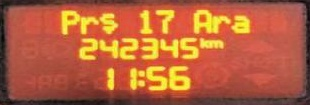1: (138, 9, 151, 34), (127, 67, 136, 90), (105, 67, 113, 90)
2: (78, 37, 97, 60), (118, 37, 137, 58)
3: (139, 37, 157, 58)
4: (97, 38, 118, 59), (159, 38, 178, 57)
5: (144, 65, 167, 90), (179, 37, 198, 58)
6: (167, 65, 189, 90)
7: (153, 8, 173, 33)
X: (192, 8, 211, 33), (59, 9, 78, 34), (98, 12, 117, 33), (229, 14, 249, 33), (211, 14, 230, 33), (79, 15, 98, 34), (207, 38, 223, 47), (136, 69, 144, 86), (198, 37, 207, 48)
